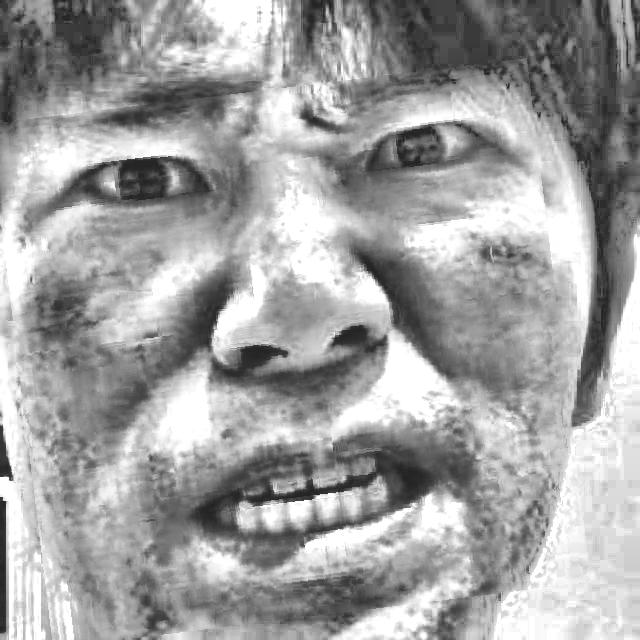angry: (4, 74, 576, 632)
